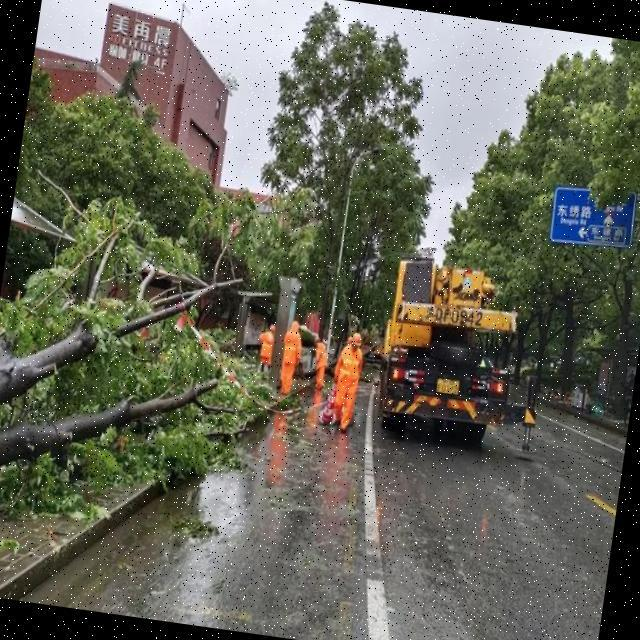fallen_object: (0, 180, 255, 445), (0, 340, 245, 514)
